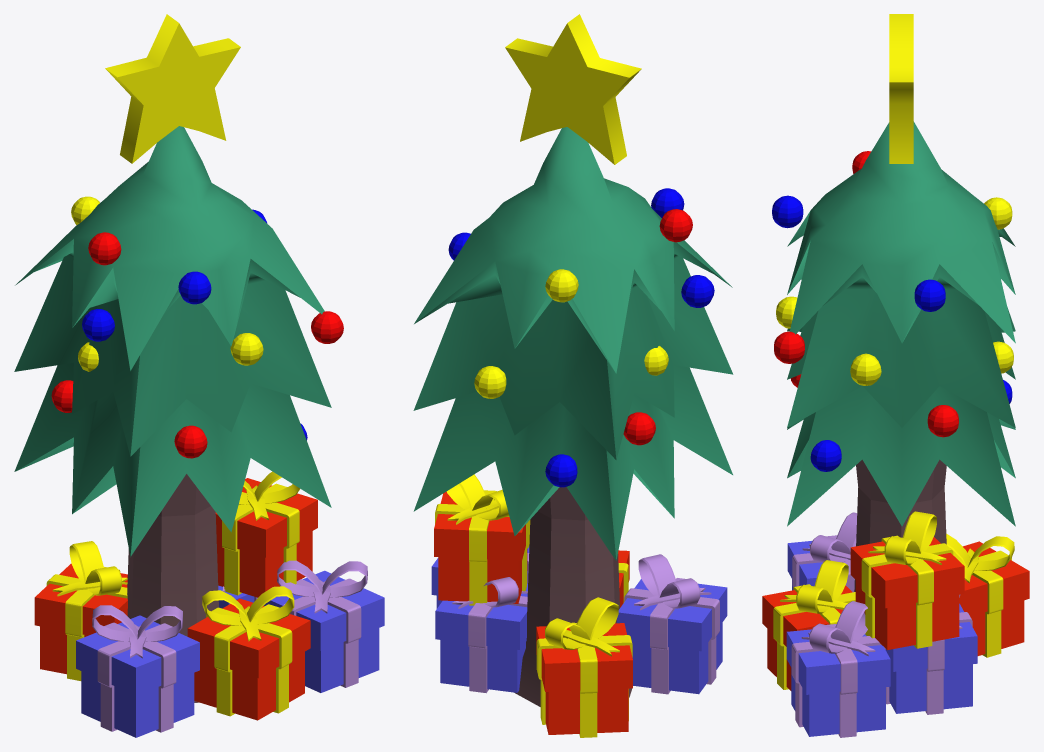
File: 트리트리.fbx
3 renders of one model, left to right at view 1: azimuth 30°, elevation 25°; view 2: azimuth 150°, elevation 25°; view 3: azimuth 270°, elevation 25°, orthographic. The views are drawn at different scales.
Parts seen in each view (by area): view 1: pCylinder2, pCube2; view 2: pCylinder2, pCube2; view 3: pCylinder2, pCube2.
Part boxes in pixels (x1=…): pCylinder2: x1=14, y1=126, x2=384, y2=737; pCube2: x1=105, y1=14, x2=240, y2=163; pCylinder2: x1=413, y1=127, x2=733, y2=737; pCube2: x1=505, y1=14, x2=641, y2=164; pCylinder2: x1=762, y1=121, x2=1029, y2=737; pCube2: x1=889, y1=14, x2=913, y2=163.
Bounding box in the file's own units: 2.76 × 6.29 × 2.34.
